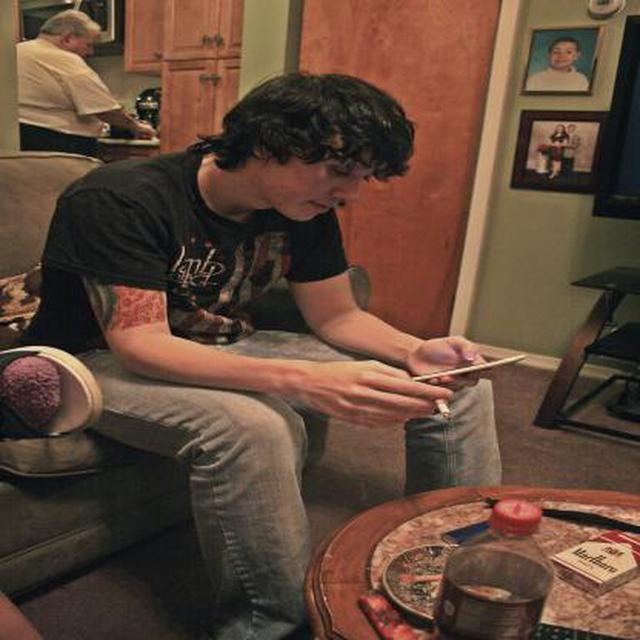smoking: (434, 394, 452, 422)
